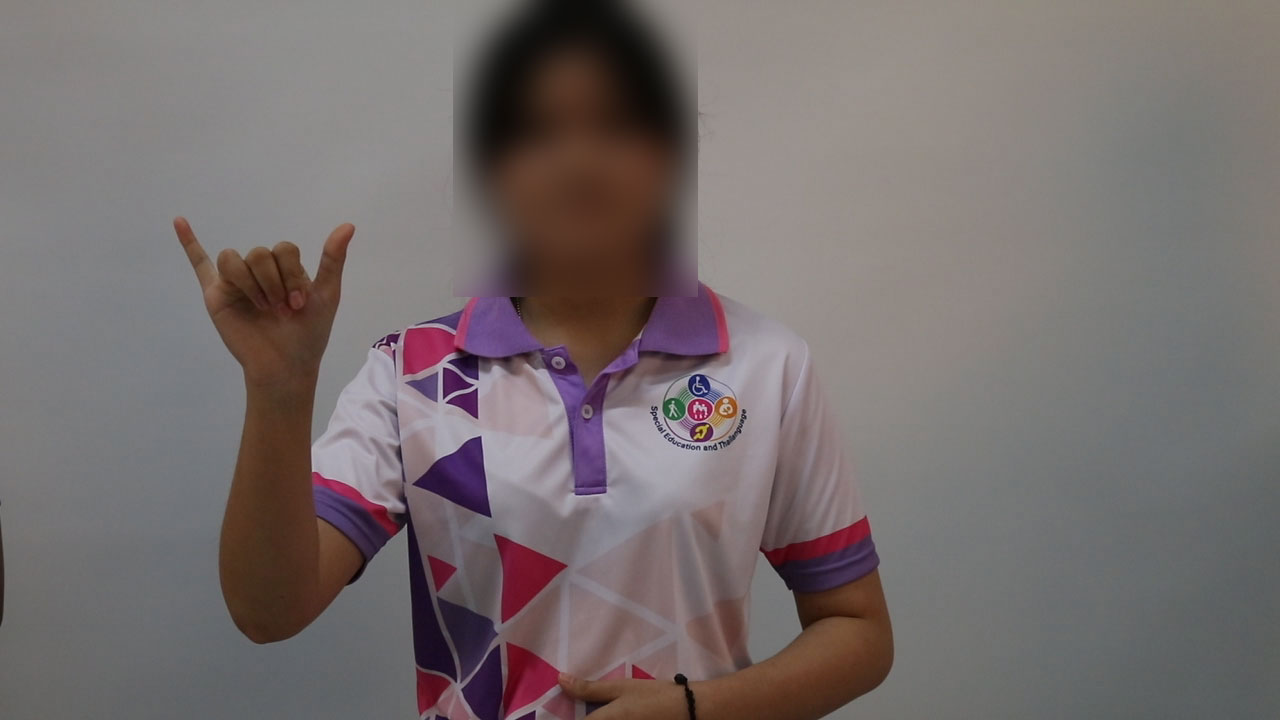yor: (164, 202, 360, 394)
